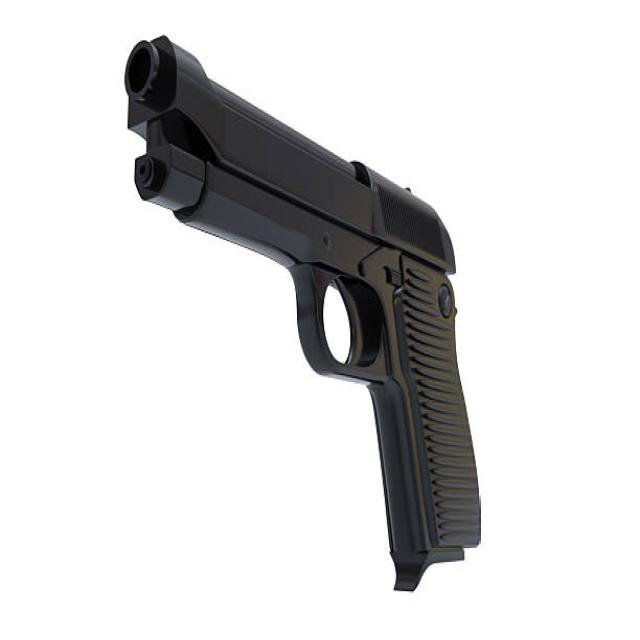pistol: (120, 31, 487, 608)
